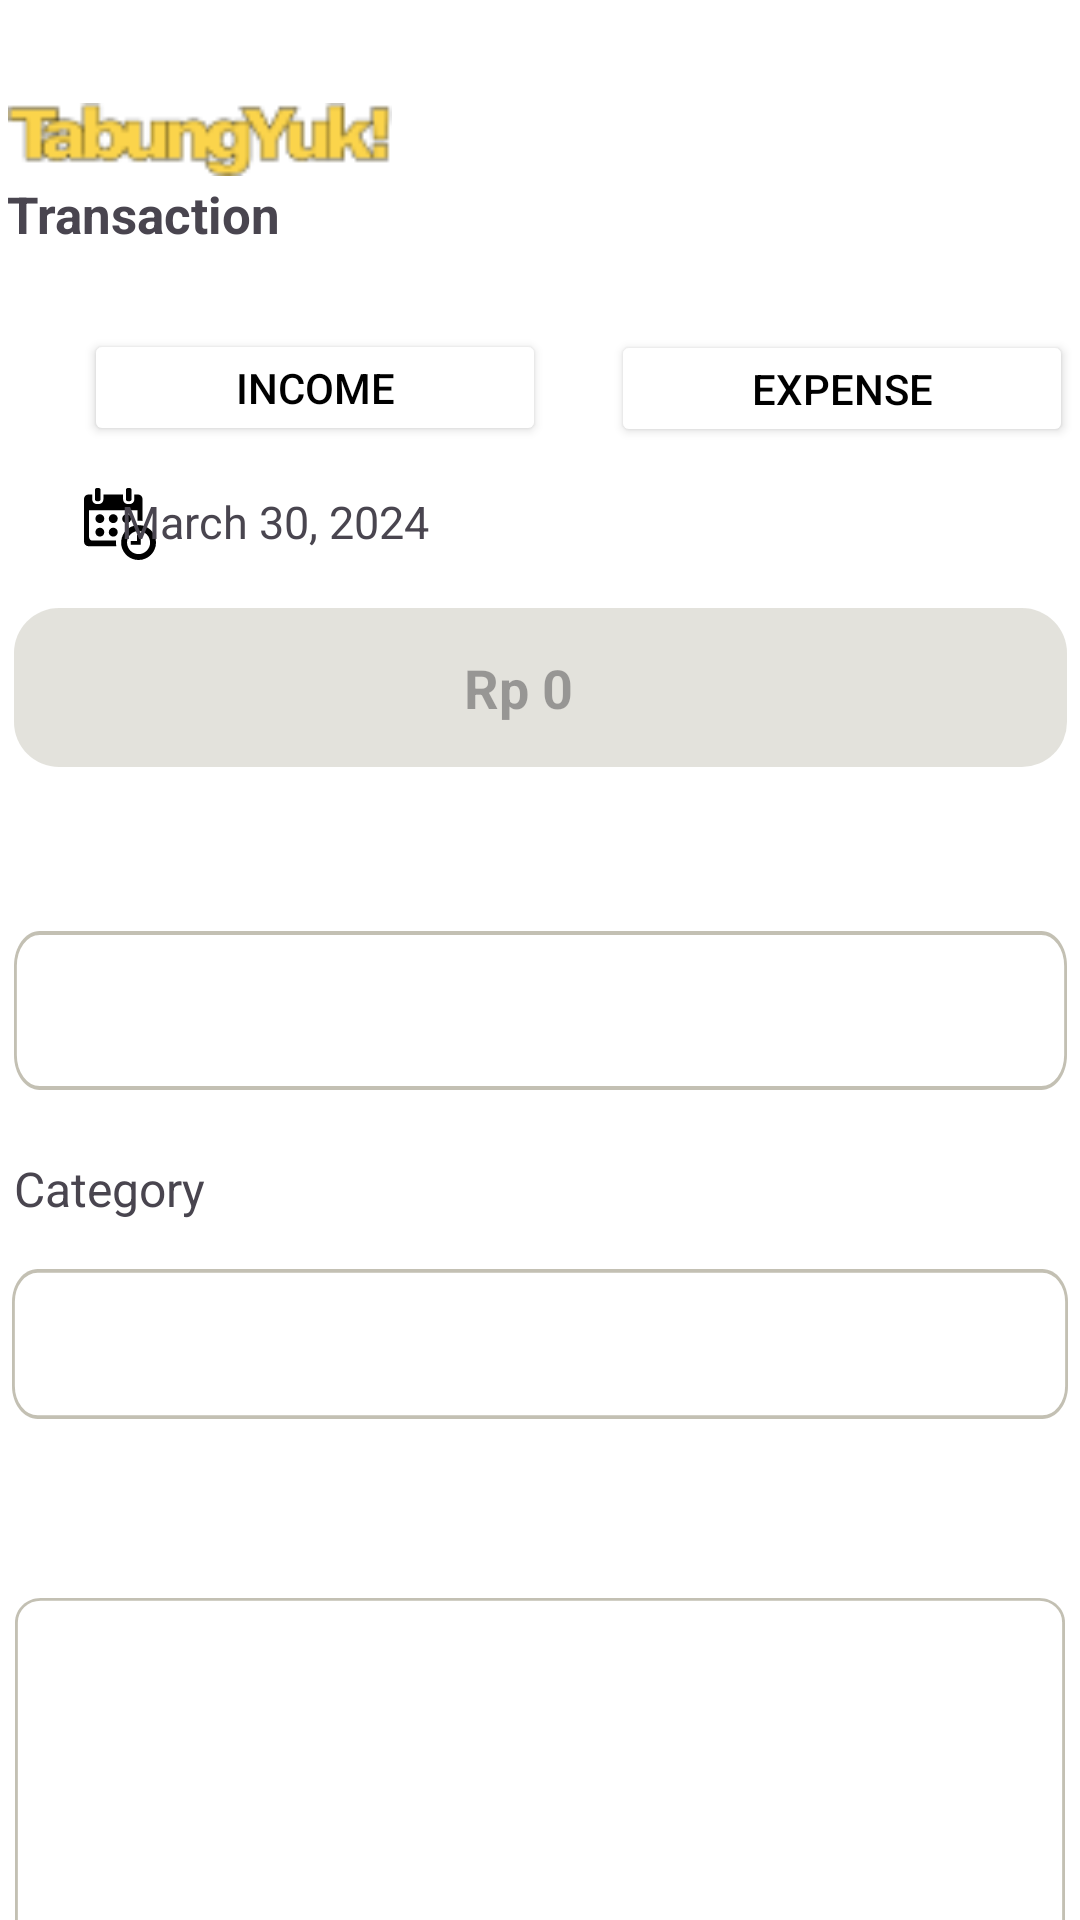

Icons on this 1080w x 1920h Android screen, each with the point to tap as [x,y]:
Select Date: [120,524]
